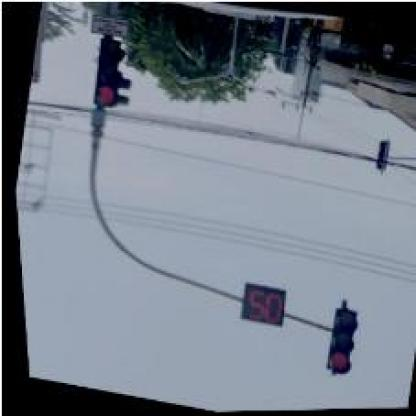red: (86, 38, 127, 109), (314, 308, 356, 377)
